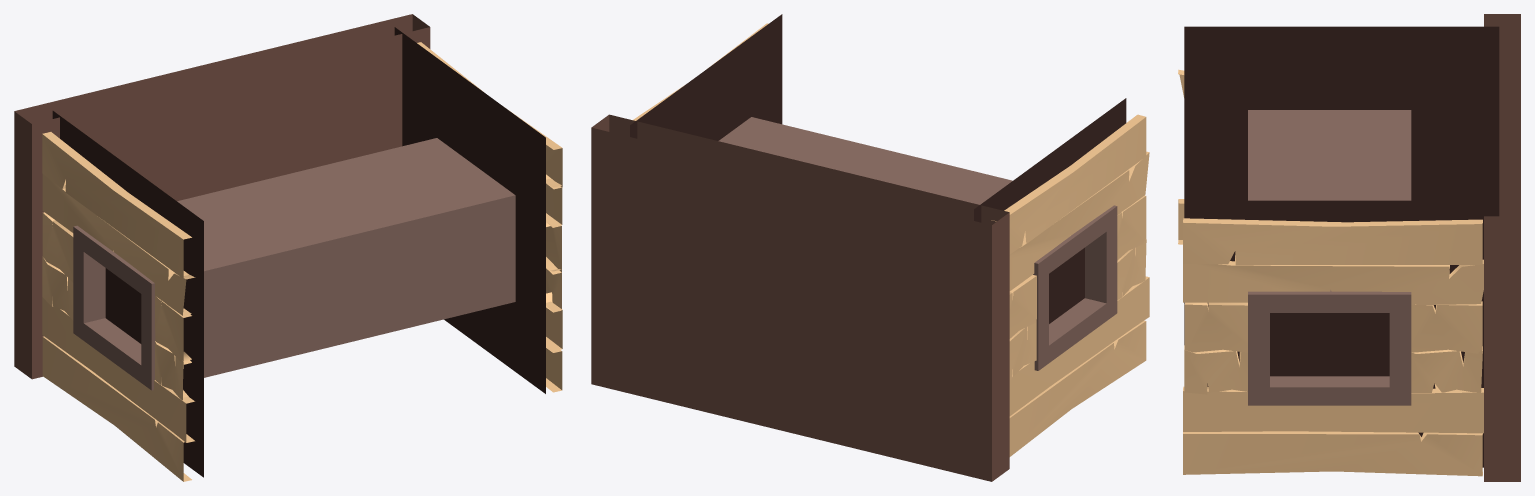
The model's file is Building_Window_002.glb.
The picture shows the model from 3 angles, left to right: view 1: azimuth 30°, elevation 25°; view 2: azimuth 150°, elevation 25°; view 3: azimuth 270°, elevation 25°; orthographic projection. The views are drawn at different scales.
Parts seen in each view (by area): view 1: Building_Window_002; view 2: Building_Window_002; view 3: Building_Window_002.
Boxes of the visible parts, x1=… form: Building_Window_002: x1=14, y1=14, x2=562, y2=481; Building_Window_002: x1=591, y1=14, x2=1149, y2=481; Building_Window_002: x1=1178, y1=14, x2=1520, y2=481.
Size of the model in its own units: 7.12 by 4.39 by 5.1.
Materials: 1 (1 with a texture image).
